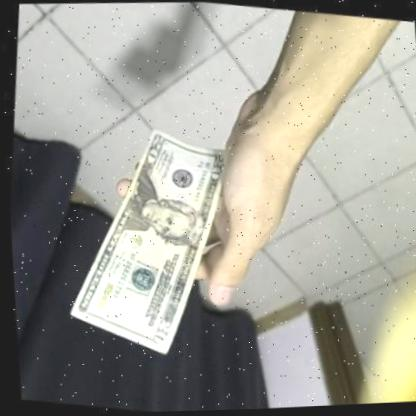twenty-front: (49, 111, 244, 367)
